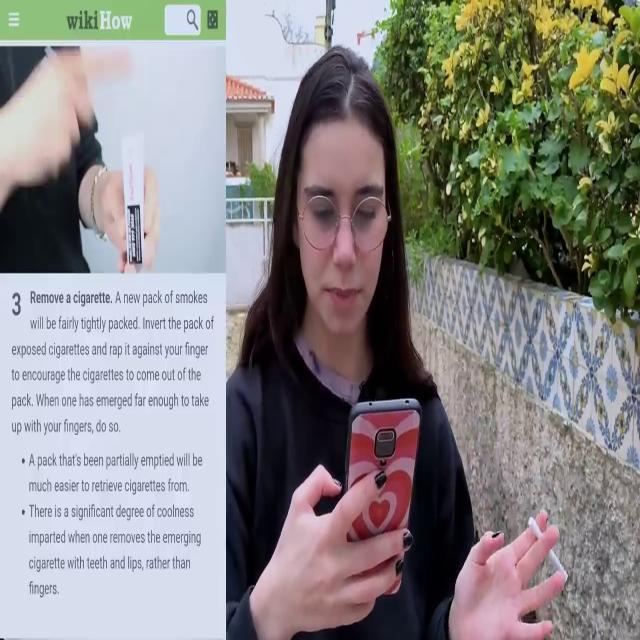Smooking: (519, 506, 575, 600)
